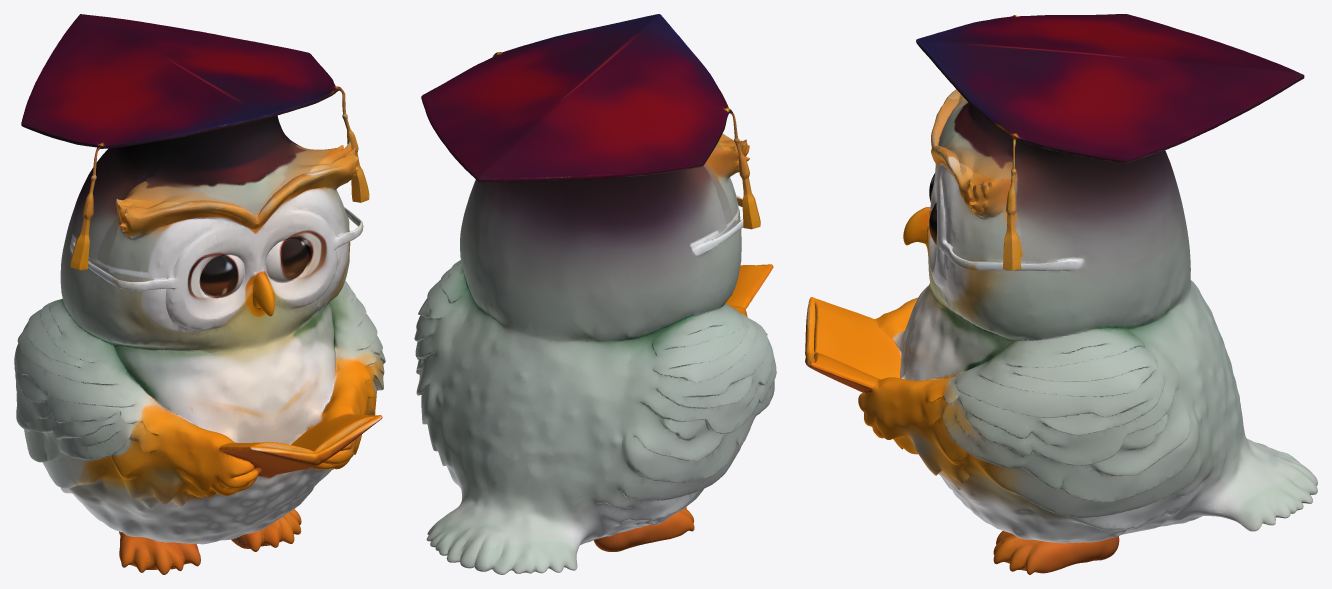
Rendered from owl.glb.
3 renders of one model, left to right at view 1: azimuth 30°, elevation 25°; view 2: azimuth 150°, elevation 25°; view 3: azimuth 270°, elevation 25°, orthographic. The views are drawn at different scales.
Visible parts, largest first — view 1: model; view 2: model; view 3: model.
Part boxes in pixels (<box>): model: <box>14,14,385,574</box>; model: <box>414,14,776,574</box>; model: <box>805,14,1317,574</box>.
Bounding box in the file's own units: 1.34 × 1.9 × 1.78.
Materials: 1 (1 with a texture image).
